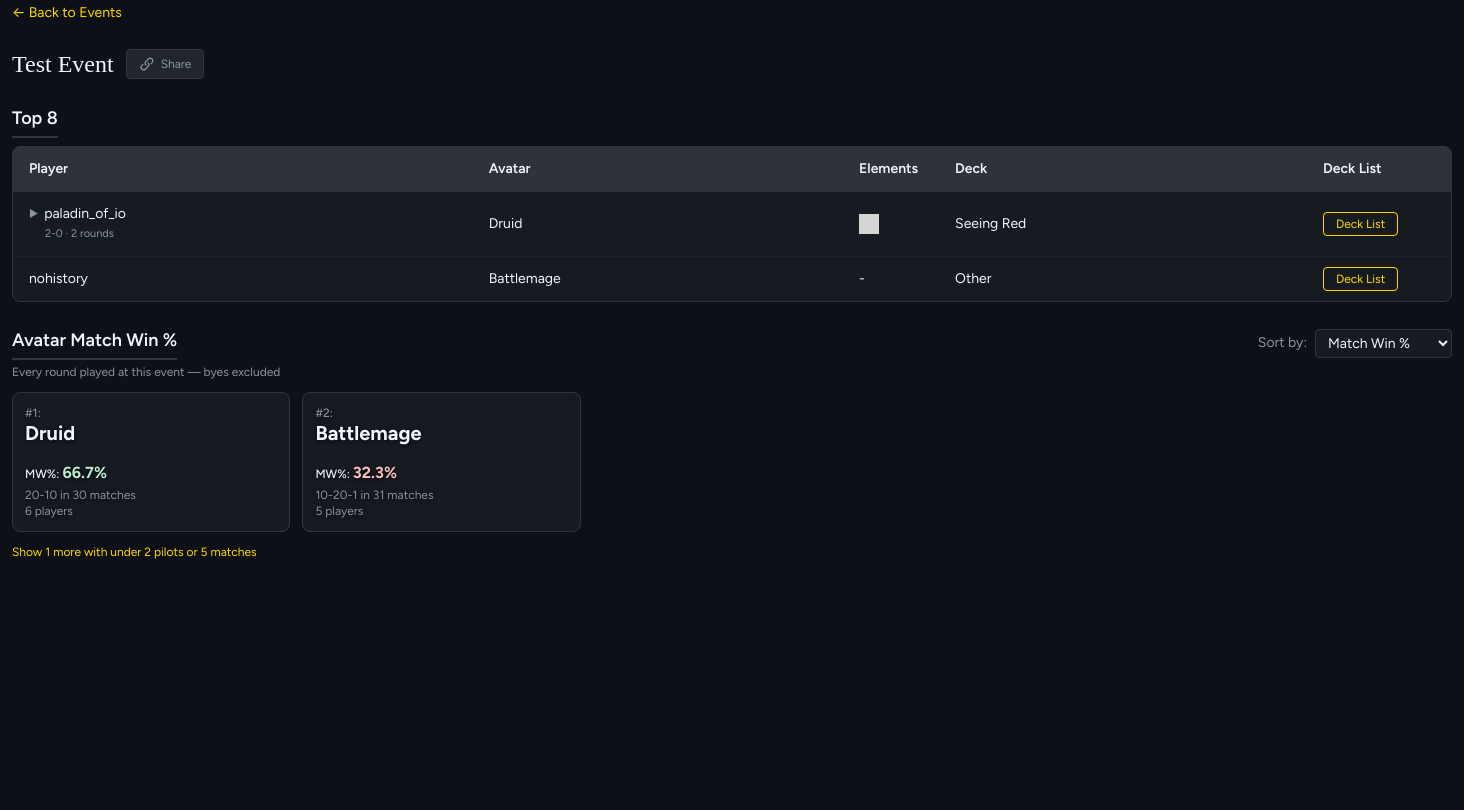
EventDetail match history › expands a player row into their rounds, newest first
Check: the text "Round 2" is not shown
What coordinates should you click on to do the following:
click the button "▶ paladin_of_io 2-0 · 2 rounds"
I would click on:
 (78, 224)
Its box is [29,204,126,244].
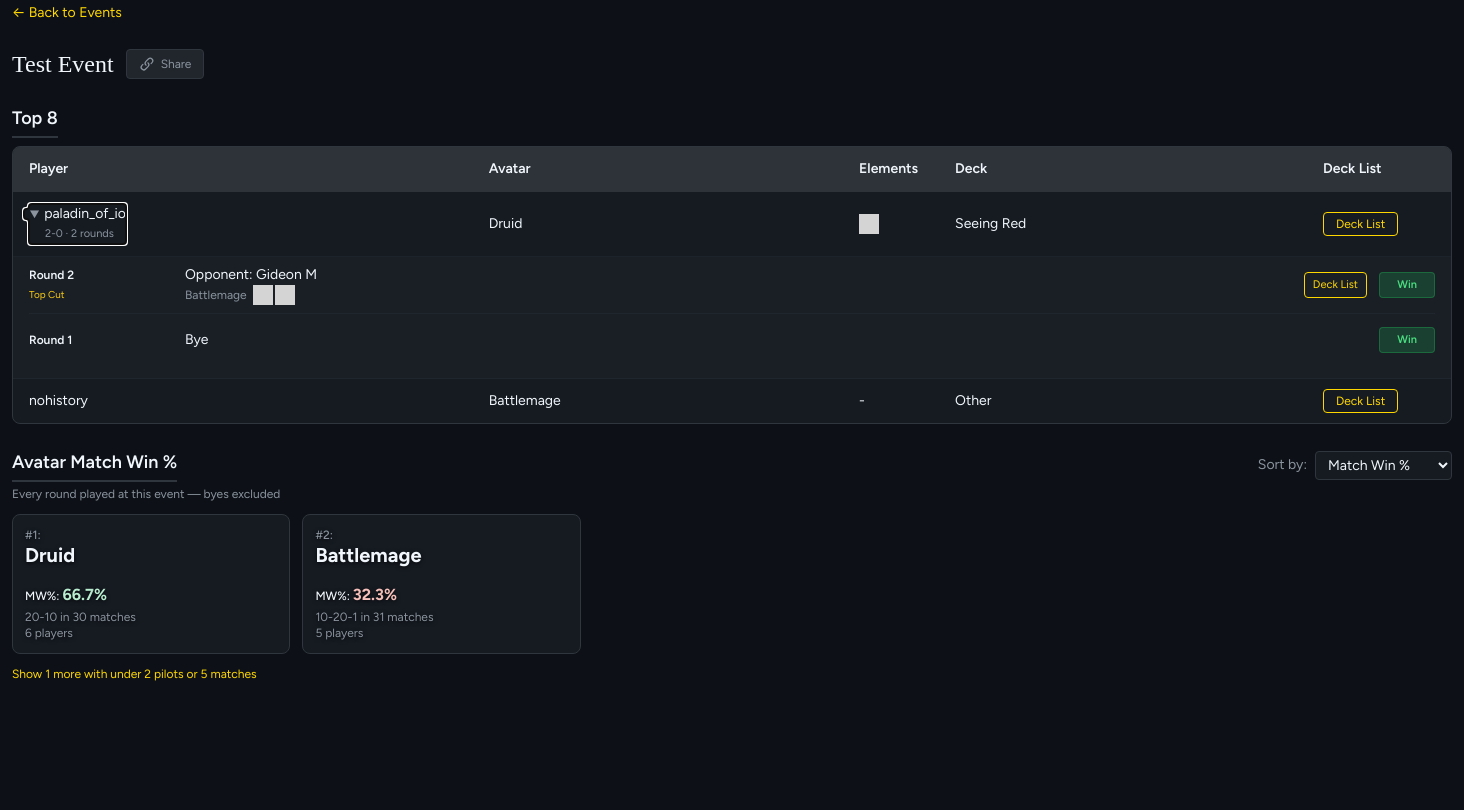
Check: the text "Opponent: Gideon M" is shown, box [185,266,317,283]
Check: the text "Top Cut" is shown, box [29,288,65,301]
Check: the text "Bye" is shown, box [185,331,208,348]
